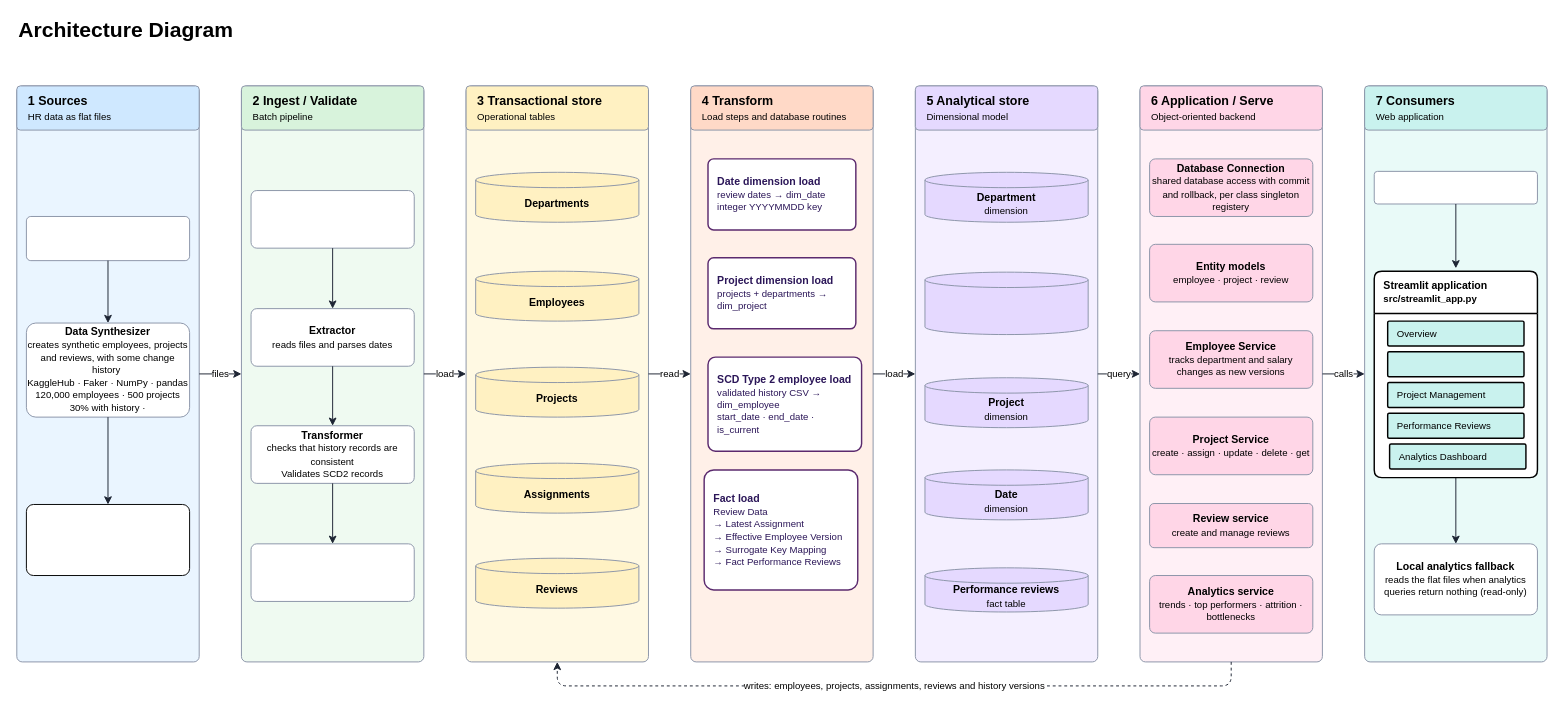
Image size: 1564x710. Some labels were removed from this diagram. The centre of each missing label's shape, as x and y in pixels:
Browser user: (1455,187)
DataWarehouseLoader writes to the database in batches: (332,572)
Employee dimension with history: key · start · end · current flag: (1006,303)
Employee Management: (1455,364)
Flat-file layer employees · history · reviews · projects · assignments;: (107,540)
Pipeline trigger single command starts the run: (332,219)
Public HR dataset downloaded at run time: (107,238)
